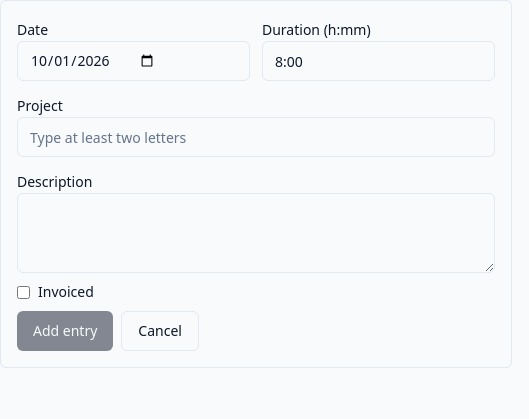
MyZenEntryForm › needs a project and a valid duration before it can be added
Later steps or results of the test are not shown.
Expected: the button "Add entry" is disabled, [17,311,113,351]
Type "va" into the field labelled "Project". click: (256,137)
box: [17,117,495,157]
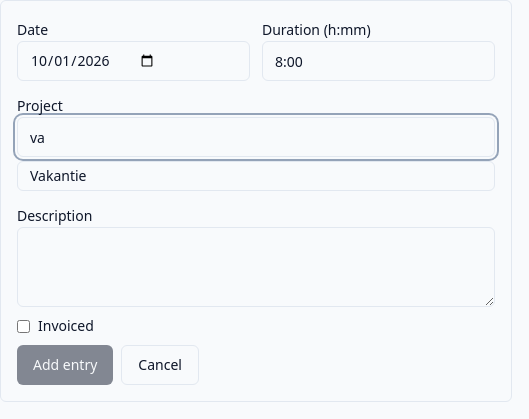
Click the button "Vakantie". click: (58,176)
box: [18,162,494,190]
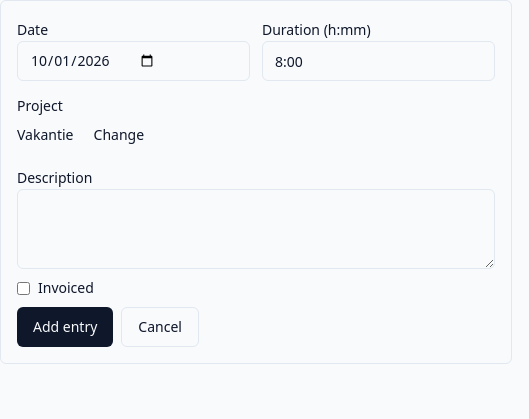
Now the button "Add entry" is enabled, box [17,307,113,347]
Replace the text in the field labelled "Duration (h:mm)" with "nope". click: (378,61)
box: [262,41,495,81]
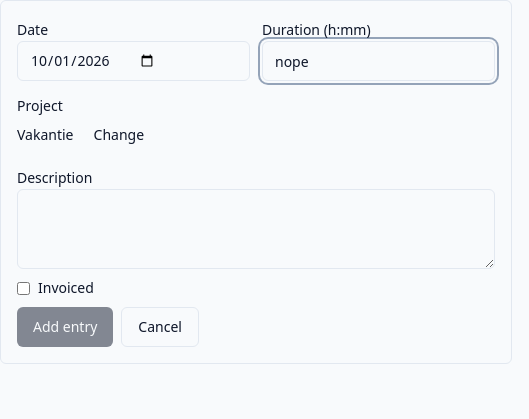
Now the button "Add entry" is disabled, box [17,307,113,347]
